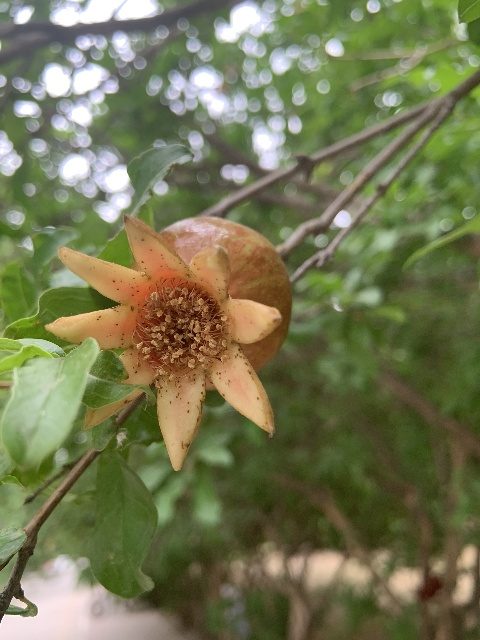early-fruit: (42, 212, 291, 471)
